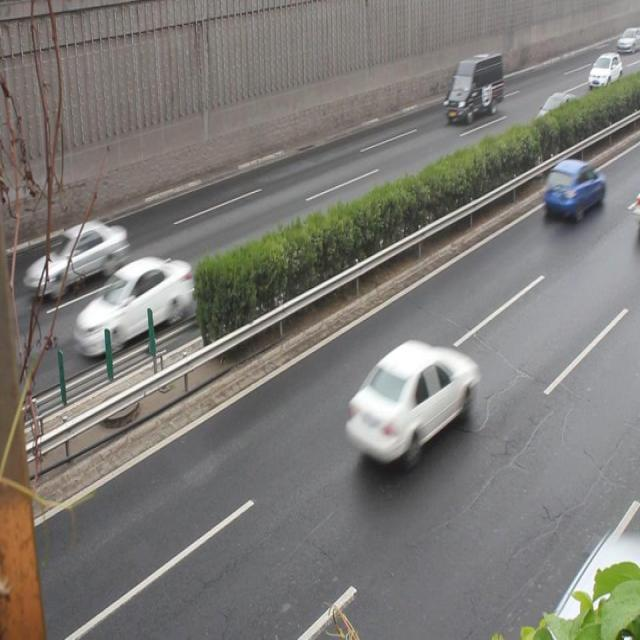car: (346, 336, 475, 464), (75, 255, 190, 353), (24, 219, 129, 292), (541, 157, 602, 218), (529, 90, 581, 141)
